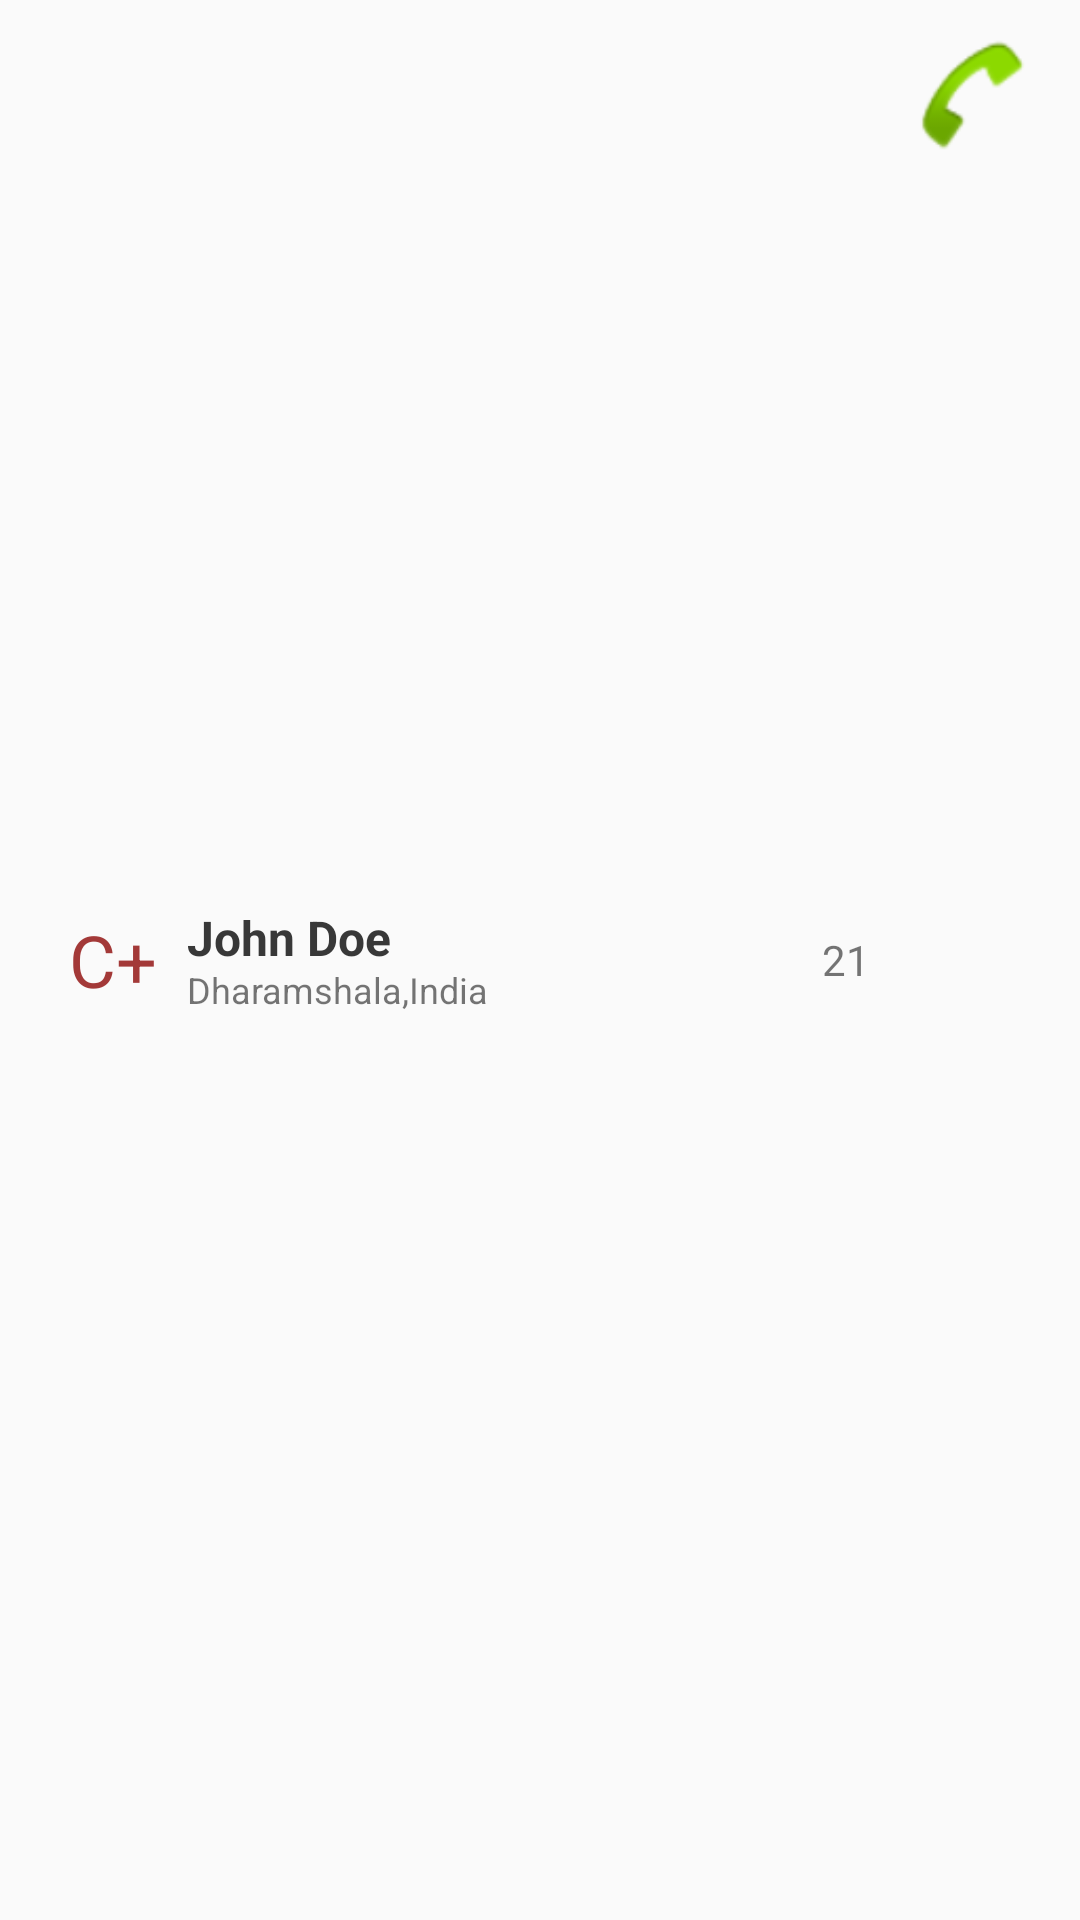

Icon bounding boxes for this 1080×1920 phone screenshot, format (x1, y1, x2, y2):
Press to call: (922, 42, 1023, 149)
